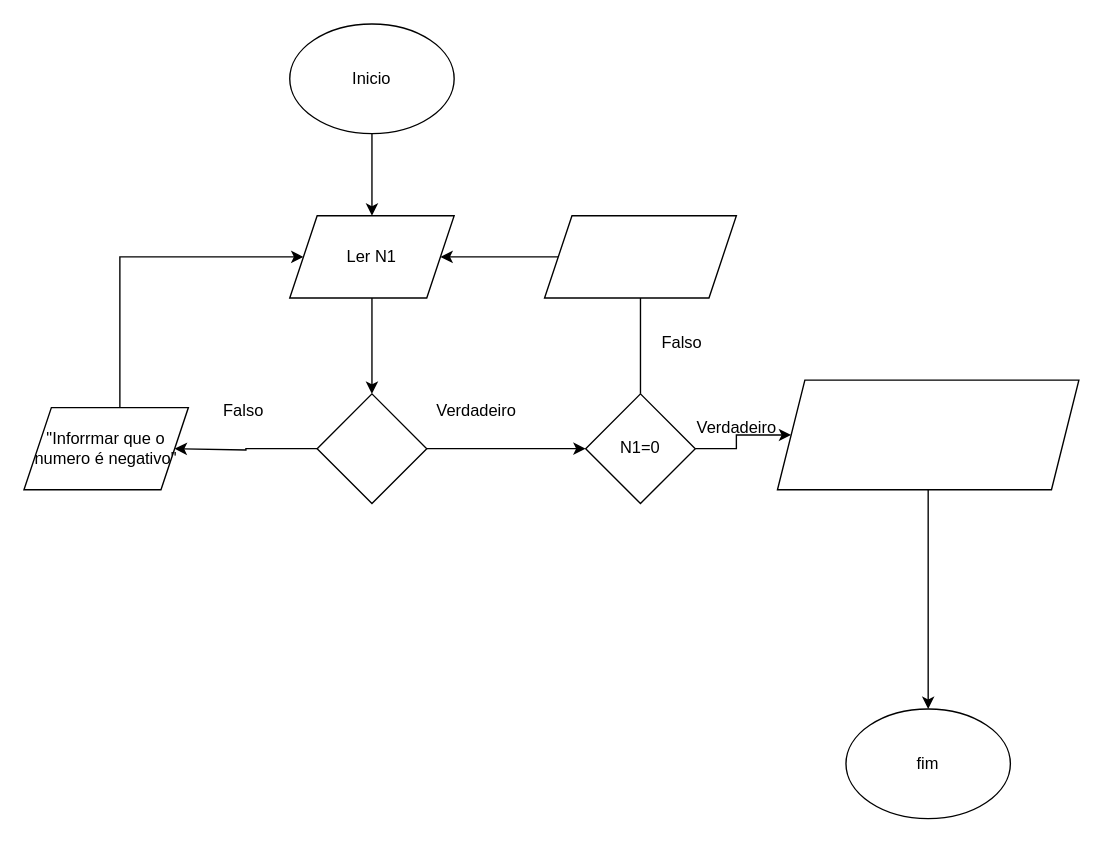
The diagram is 1103 pixels wide and 843 high, and some of its shapes have lost their labels. Here are the shapes that lost their labels. From the top down, the box of each, then its label:
(543, 214, 736, 298): "Informar que o numero é positivo"
(316, 393, 427, 503): N1>=0
(776, 379, 1079, 490): Escrever "Digitou 0- vai sair do programa"
